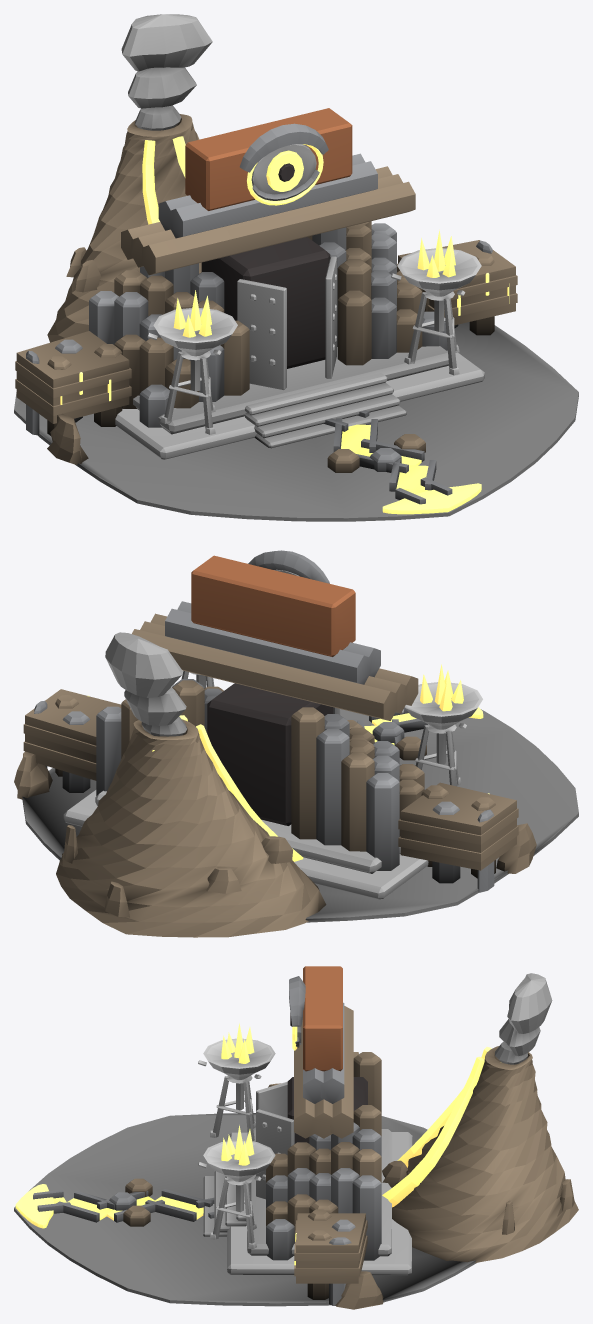
File: gate-of-etna-l1.glb
3 renders of one model, top to bottom at view 1: azimuth 30°, elevation 25°; view 2: azimuth 150°, elevation 25°; view 3: azimuth 270°, elevation 25°, orthographic. The views are drawn at different scales.
Parts seen in each view (by area): view 1: gate-of-etna-l1; view 2: gate-of-etna-l1; view 3: gate-of-etna-l1.
Part boxes in pixels (x1=…): gate-of-etna-l1: x1=14, y1=14, x2=578, y2=521; gate-of-etna-l1: x1=14, y1=550, x2=578, y2=937; gate-of-etna-l1: x1=14, y1=966, x2=578, y2=1309.
Size of the model in its own units: 1.5 by 0.8377 by 1.81.
